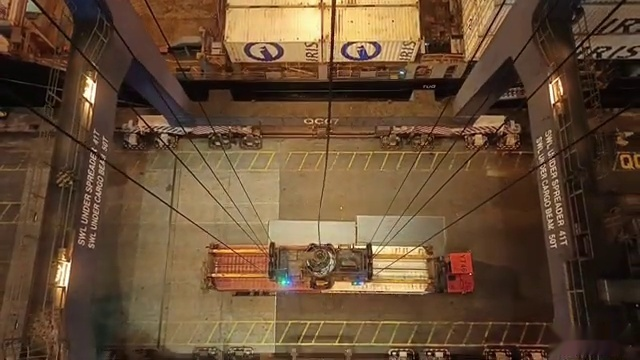container: (197, 238, 454, 303), (222, 7, 427, 66), (208, 1, 436, 32), (209, 0, 433, 27), (222, 1, 425, 25), (223, 0, 422, 8), (216, 0, 431, 3), (227, 0, 420, 3)
guide_mark: (71, 320, 546, 343), (104, 154, 546, 174)
spreader: (191, 239, 447, 299)
target_slot: (200, 239, 451, 299)
